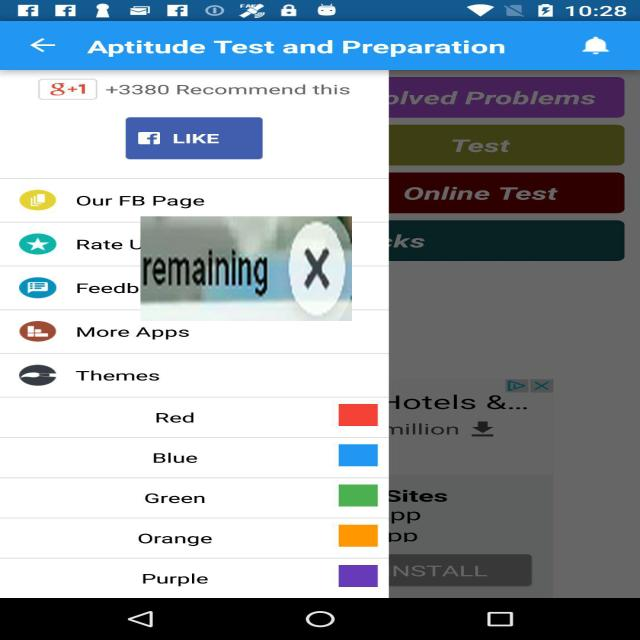misdirection: (140, 216, 352, 321)
